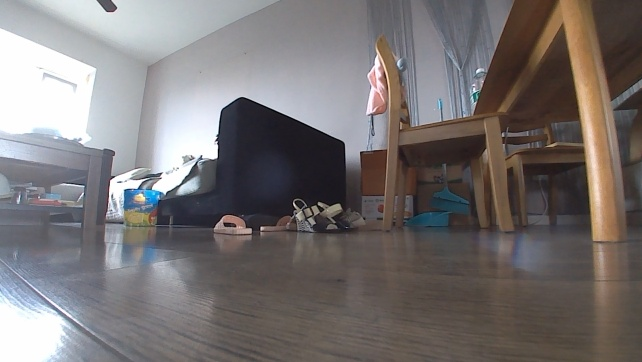dining_table1: (370, 0, 641, 245)
slipper: (212, 212, 255, 235), (259, 215, 289, 234)
sofa: (103, 93, 346, 229)
tea_table1: (0, 130, 118, 227)
wire: (528, 175, 550, 225)
